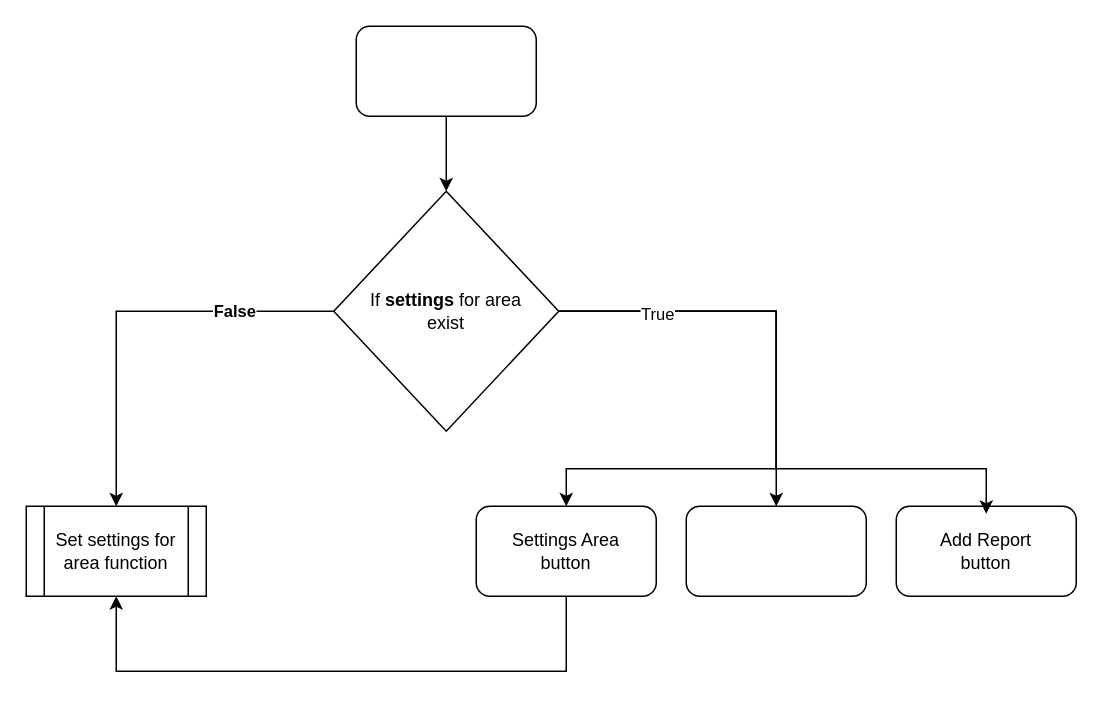
This 1103x710 diagram has some shape labels left out. The shapes that lost their labels are listed below. From the top down, each one's box as (x1, y1, x2, y2) in pixels, then its label:
(355, 25, 536, 116): Finances button
(685, 505, 866, 596): Add Category button
